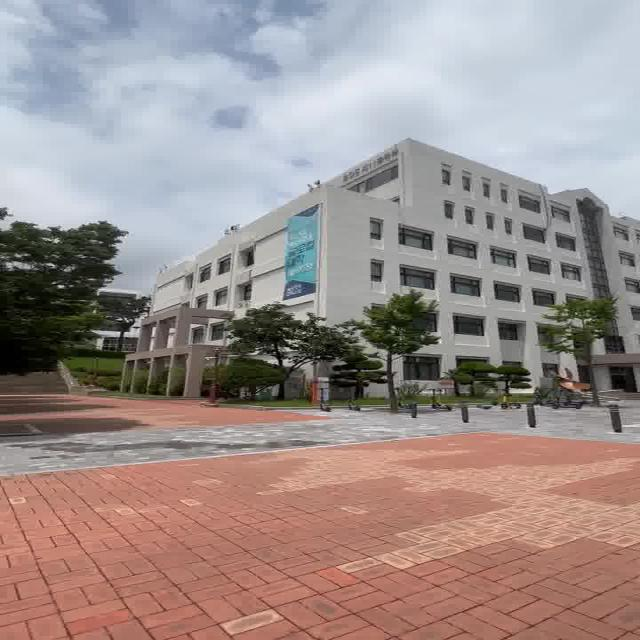building: (258, 152, 640, 302)
